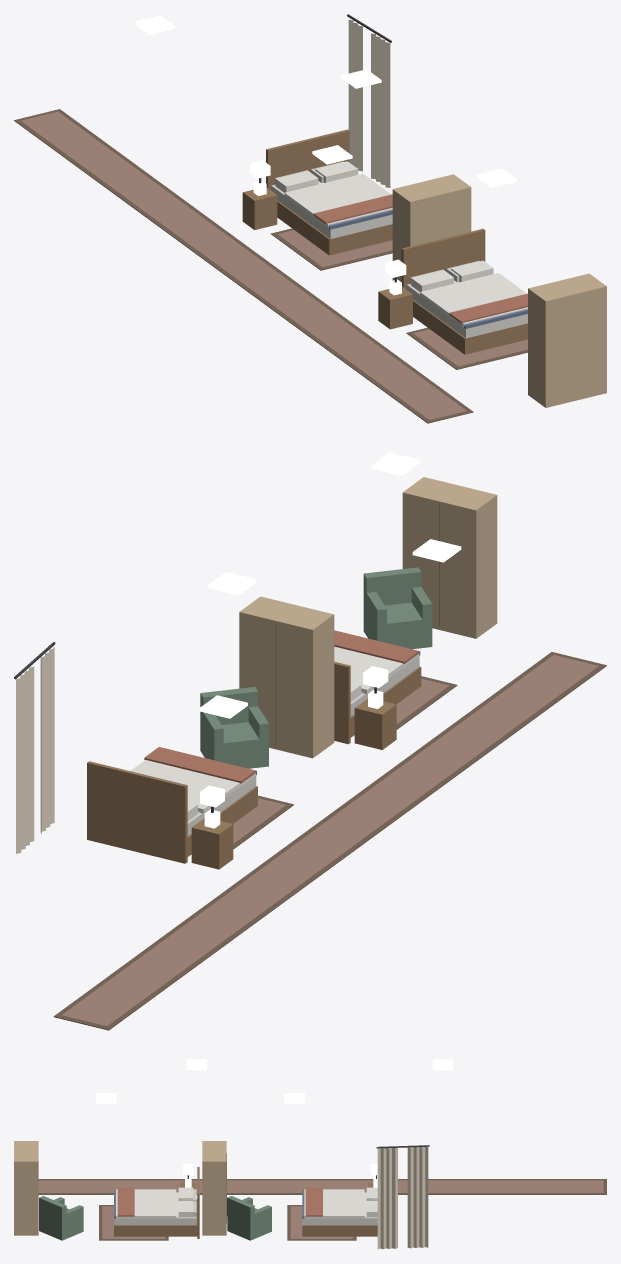
The model's file is fine-s2.glb.
3 renders of one model, top to bottom at view 1: azimuth 30°, elevation 25°; view 2: azimuth 150°, elevation 25°; view 3: azimuth 270°, elevation 25°, orthographic. The views are drawn at different scales.
Visible parts, largest first — view 1: soft-s2, dresser.003, bed-frame.003, bed-frame.002, dresser.002, nightstand.002, nightstand.003; view 2: soft-s2, dresser.002, dresser.003, bed-frame.002, lounge-chair.003, lounge-chair.002, bed-frame.003, nightstand.002, nightstand.003; view 3: soft-s2, dresser.002, dresser.003, bed-frame.003, lounge-chair.002, lounge-chair.003, bed-frame.002.
Boxes of the visible parts, left/top/right/bottom form: soft-s2: left=14, top=14, right=527, bottom=423; dresser.003: left=528, top=273, right=606, bottom=407; bed-frame.003: left=401, top=228, right=527, bottom=354; bed-frame.002: left=266, top=129, right=392, bottom=255; dresser.002: left=392, top=174, right=471, bottom=281; nightstand.002: left=242, top=180, right=277, bottom=230; nightstand.003: left=378, top=279, right=412, bottom=329; soft-s2: left=14, top=630, right=606, bottom=1030; dresser.002: left=239, top=596, right=334, bottom=758; dresser.003: left=402, top=477, right=497, bottom=638; bed-frame.002: left=87, top=761, right=257, bottom=863; lounge-chair.003: left=363, top=567, right=432, bottom=649; lounge-chair.002: left=200, top=687, right=268, bottom=768; bed-frame.003: left=334, top=651, right=421, bottom=744; nightstand.002: left=191, top=809, right=233, bottom=869; nightstand.003: left=354, top=690, right=396, bottom=749; soft-s2: left=38, top=1145, right=606, bottom=1249; dresser.002: left=202, top=1141, right=226, bottom=1235; dresser.003: left=14, top=1141, right=38, bottom=1235; bed-frame.003: left=114, top=1167, right=199, bottom=1238; lounge-chair.002: left=227, top=1196, right=271, bottom=1240; lounge-chair.003: left=39, top=1196, right=83, bottom=1240; bed-frame.002: left=302, top=1190, right=377, bottom=1236.
Size of the model in its own units: 4.16 by 3.34 by 14.51.
